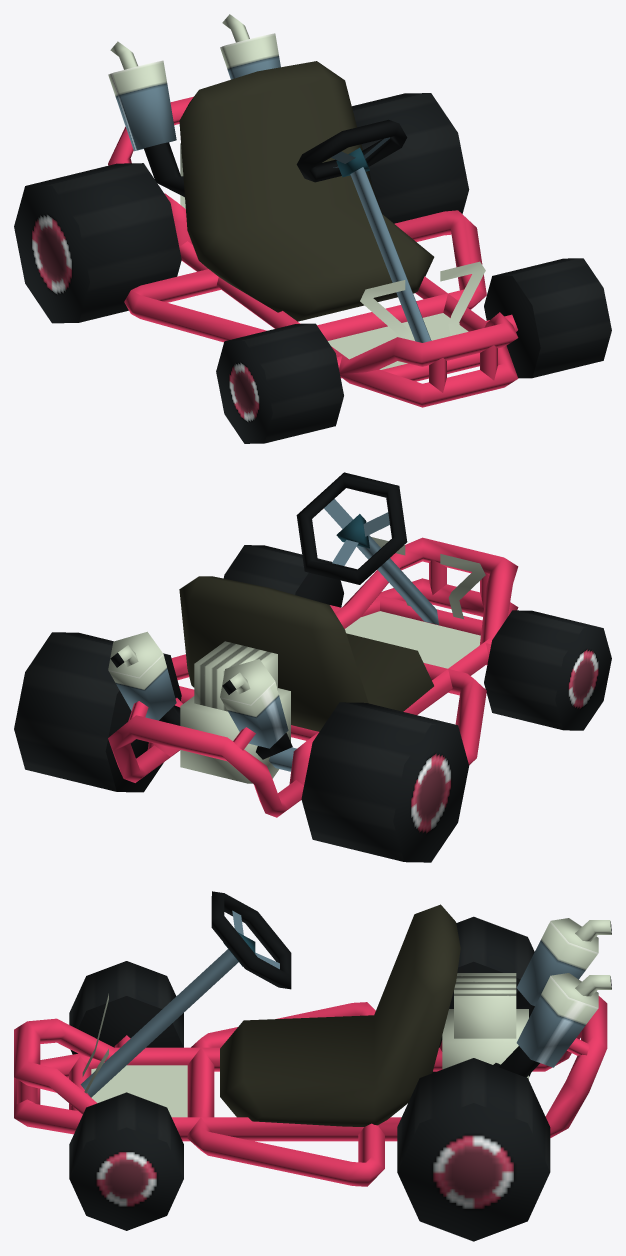
File: pipeframe64_peach.dae
3 renders of one model, top to bottom at view 1: azimuth 30°, elevation 25°; view 2: azimuth 150°, elevation 25°; view 3: azimuth 270°, elevation 25°, orthographic.
Parts seen in each view (by area): view 1: seat, frame, wheel_r.r, wheel_f.r, wheel_f.l, wheel_r.l, engine, steeringwheel, pedals; view 2: frame, wheel_r.r, seat, wheel_r.l, engine, wheel_f.r, steeringwheel, wheel_f.l, pedals; view 3: frame, seat, wheel_r.l, engine, wheel_f.l, steeringwheel, wheel_f.r, wheel_r.r.
Boxes of the visible parts, x1=… form: seat: x1=179, y1=61, x2=434, y2=321; frame: x1=108, y1=96, x2=518, y2=407; wheel_r.r: x1=14, y1=163, x2=181, y2=323; wheel_f.r: x1=216, y1=323, x2=343, y2=443; wheel_f.l: x1=484, y1=258, x2=611, y2=378; wheel_r.l: x1=352, y1=93, x2=469, y2=223; engine: x1=108, y1=14, x2=280, y2=208; steeringwheel: x1=296, y1=119, x2=431, y2=342; pedals: x1=360, y1=261, x2=485, y2=363; frame: x1=108, y1=537, x2=518, y2=817; wheel_r.r: x1=301, y1=702, x2=468, y2=862; seat: x1=179, y1=576, x2=433, y2=731; wheel_r.l: x1=14, y1=632, x2=181, y2=792; engine: x1=108, y1=631, x2=292, y2=783; wheel_f.r: x1=484, y1=610, x2=611, y2=730; steeringwheel: x1=296, y1=472, x2=438, y2=624; wheel_f.l: x1=223, y1=545, x2=343, y2=607; pedals: x1=371, y1=537, x2=485, y2=619; frame: x1=14, y1=996, x2=607, y2=1186; seat: x1=220, y1=904, x2=460, y2=1126; wheel_r.l: x1=397, y1=1058, x2=550, y2=1241; engine: x1=442, y1=918, x2=611, y2=1079; wheel_f.l: x1=69, y1=1092, x2=183, y2=1230; steeringwheel: x1=80, y1=891, x2=291, y2=1097; wheel_f.r: x1=69, y1=961, x2=183, y2=1054; wheel_r.r: x1=432, y1=916, x2=534, y2=1076.
Bounding box in the file's own units: 13.01 × 17.65 × 7.94.
Materials: 1 (1 with a texture image).
